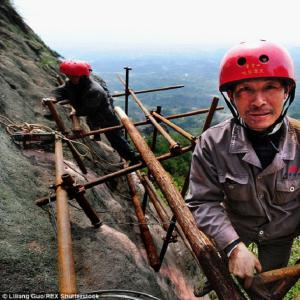red: (212, 37, 298, 129), (59, 58, 91, 87)
